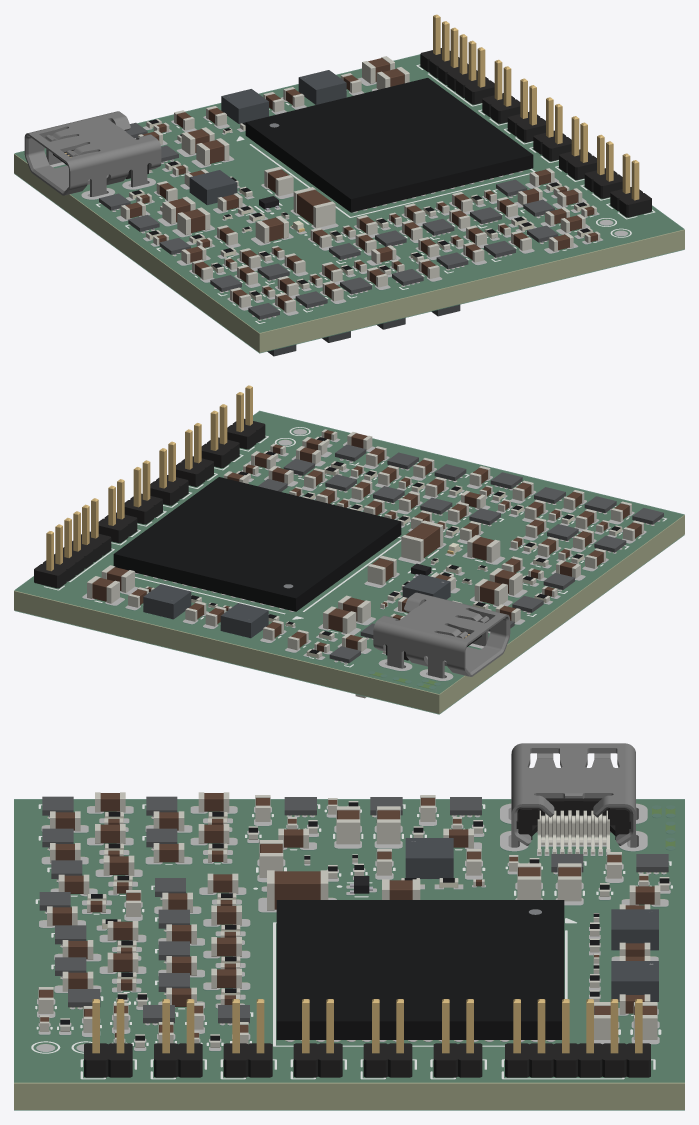
File: Combined_V6_Interactive.glb
The picture shows the model from 3 angles, top to bottom: view 1: azimuth 30°, elevation 25°; view 2: azimuth 150°, elevation 25°; view 3: azimuth 270°, elevation 25°; orthographic projection. The views are drawn at different scales.
Visible parts, largest first — view 1: Combined_FPGA_LT3046_LDO_V6_PCB, Combined_FPGA_LT3046_LDO_V6_soldermask (×2), U1, J3, Combined_FPGA_LT3046_LDO_V6_pad, J91, Combined_FPGA_LT3046_LDO_V6_silkscreen, J402, J10, J202, J302, J102 (+13 smaller); view 2: Combined_FPGA_LT3046_LDO_V6_PCB, Combined_FPGA_LT3046_LDO_V6_soldermask (×2), U1, J3, Combined_FPGA_LT3046_LDO_V6_pad, J91, Combined_FPGA_LT3046_LDO_V6_silkscreen, J90, J302, J10, J402, J102 (+13 smaller); view 3: Combined_FPGA_LT3046_LDO_V6_PCB, Combined_FPGA_LT3046_LDO_V6_soldermask (×2), U1, J3, Combined_FPGA_LT3046_LDO_V6_pad, J91, Combined_FPGA_LT3046_LDO_V6_silkscreen, J202, J402, J302, J102, J90 (+39 smaller).
Part boxes in pixels (x1,y1,x2,y2): Combined_FPGA_LT3046_LDO_V6_PCB: (14, 55, 684, 352); Combined_FPGA_LT3046_LDO_V6_soldermask (×2): (14, 54, 684, 353); U1: (245, 78, 533, 212); J3: (24, 111, 161, 196); Combined_FPGA_LT3046_LDO_V6_pad: (45, 77, 628, 320); J91: (420, 14, 494, 104); Combined_FPGA_LT3046_LDO_V6_silkscreen: (96, 64, 655, 323); J402: (610, 153, 651, 217); J10: (482, 59, 520, 123); J202: (559, 116, 596, 179); J302: (584, 134, 622, 198); J102: (533, 97, 571, 161); Combined_FPGA_LT3046_LDO_V6_PCB: (14, 412, 684, 713); Combined_FPGA_LT3046_LDO_V6_soldermask (×2): (14, 410, 684, 714); U1: (113, 477, 401, 611); J3: (373, 592, 510, 678); Combined_FPGA_LT3046_LDO_V6_pad: (82, 429, 659, 688); J91: (34, 498, 111, 588); Combined_FPGA_LT3046_LDO_V6_silkscreen: (44, 427, 666, 667); J90: (124, 460, 162, 524); J302: (201, 404, 239, 468); J10: (98, 479, 137, 542); J402: (227, 385, 265, 449); J102: (150, 441, 188, 505); Combined_FPGA_LT3046_LDO_V6_PCB: (14, 800, 684, 1109); Combined_FPGA_LT3046_LDO_V6_soldermask (×2): (14, 799, 684, 1110); U1: (276, 900, 564, 1039); J3: (511, 743, 635, 854); Combined_FPGA_LT3046_LDO_V6_pad: (36, 803, 674, 1051); J91: (505, 999, 650, 1077); Combined_FPGA_LT3046_LDO_V6_silkscreen: (31, 804, 672, 1079); J202: (223, 999, 272, 1077); J402: (84, 999, 132, 1077); J302: (154, 999, 202, 1077); J102: (293, 999, 342, 1077); J90: (363, 999, 412, 1077).
Bounding box in the file's own units: 0.0356 × 0.00693 × 0.035.
